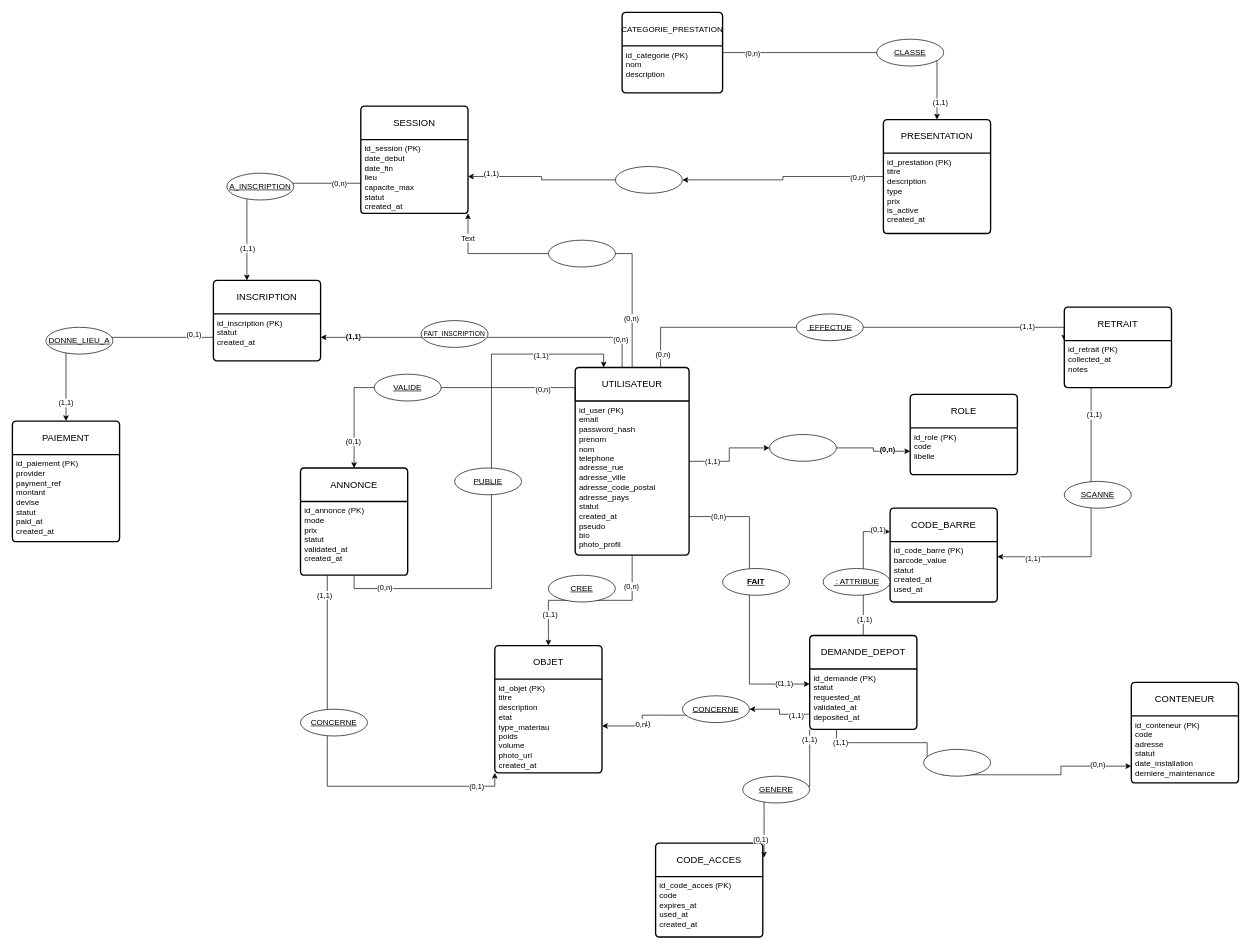
Some shapes in this 1250 by 949 pixel diagram are drawn without their labels. Each missing label, with the centre of its shape:
"A_POUR_ROLE" goes at (x=802, y=447).
"DEPOSE_DANS" goes at (x=957, y=762).
"PROPOSE" goes at (x=648, y=179).
"VALIDE_SESSION" goes at (x=581, y=253).
